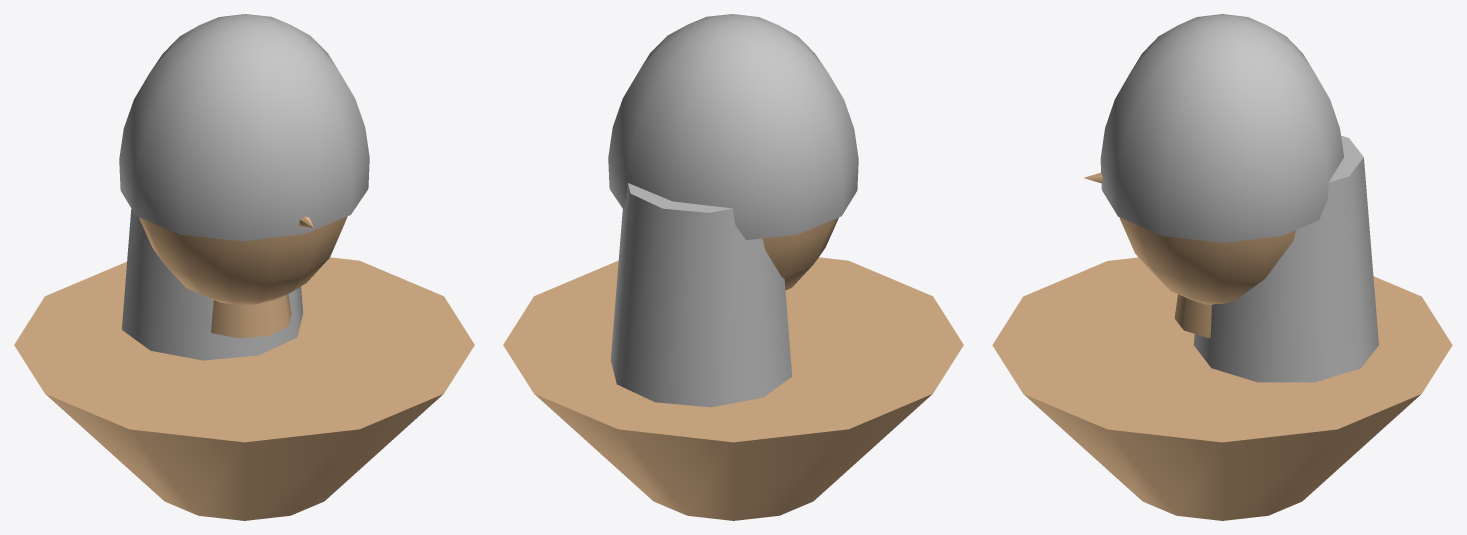
Rendered from raw_003.glb.
3 views of the same model, side by side, from view 1: azimuth 30°, elevation 25°; view 2: azimuth 150°, elevation 25°; view 3: azimuth 270°, elevation 25° (orthographic).
Bounding box in the file's own units: 2.02 × 2.22 × 2.02.
